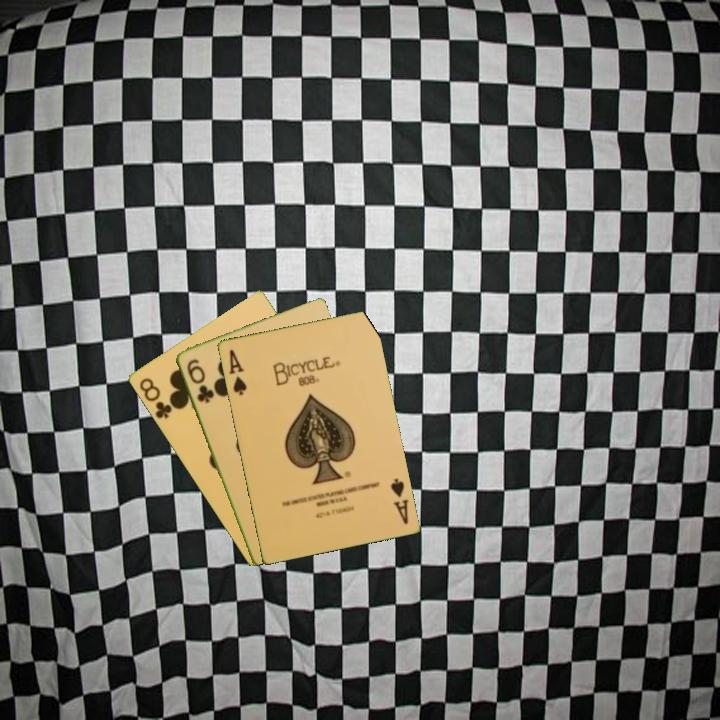6c: (183, 355, 216, 406)
8c: (135, 374, 177, 422)
As: (386, 474, 411, 527), (225, 345, 249, 398)
